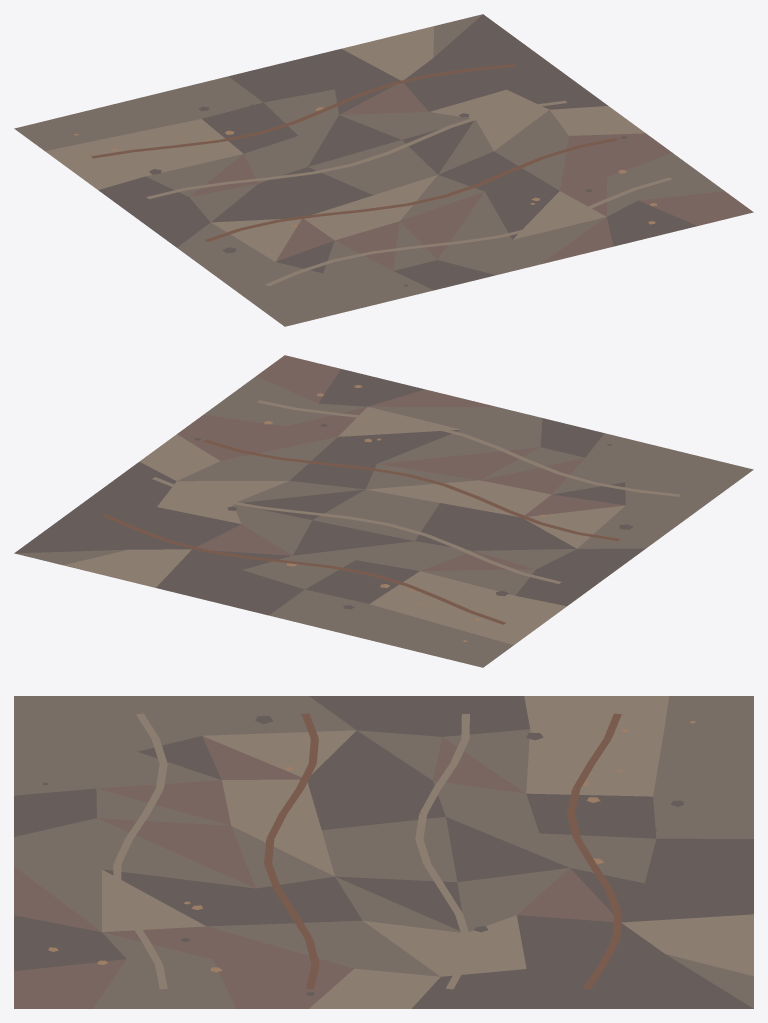
File: 09_Quarry_Sediment.fbx
3 renders of one model, top to bottom at view 1: azimuth 30°, elevation 25°; view 2: azimuth 150°, elevation 25°; view 3: azimuth 270°, elevation 25°, orthographic. The views are drawn at different scales.
Parts seen in each view (by area): view 1: 09_Quarry_Sediment; view 2: 09_Quarry_Sediment; view 3: 09_Quarry_Sediment.
Boxes of the visible parts, box(x1,y1,x2,y2) form: 09_Quarry_Sediment: box(14, 14, 753, 326); 09_Quarry_Sediment: box(14, 355, 753, 667); 09_Quarry_Sediment: box(14, 696, 753, 1008).
Bounding box in the file's own units: 800 × 1.2 × 800.
Materials: 1 (1 with a texture image).
